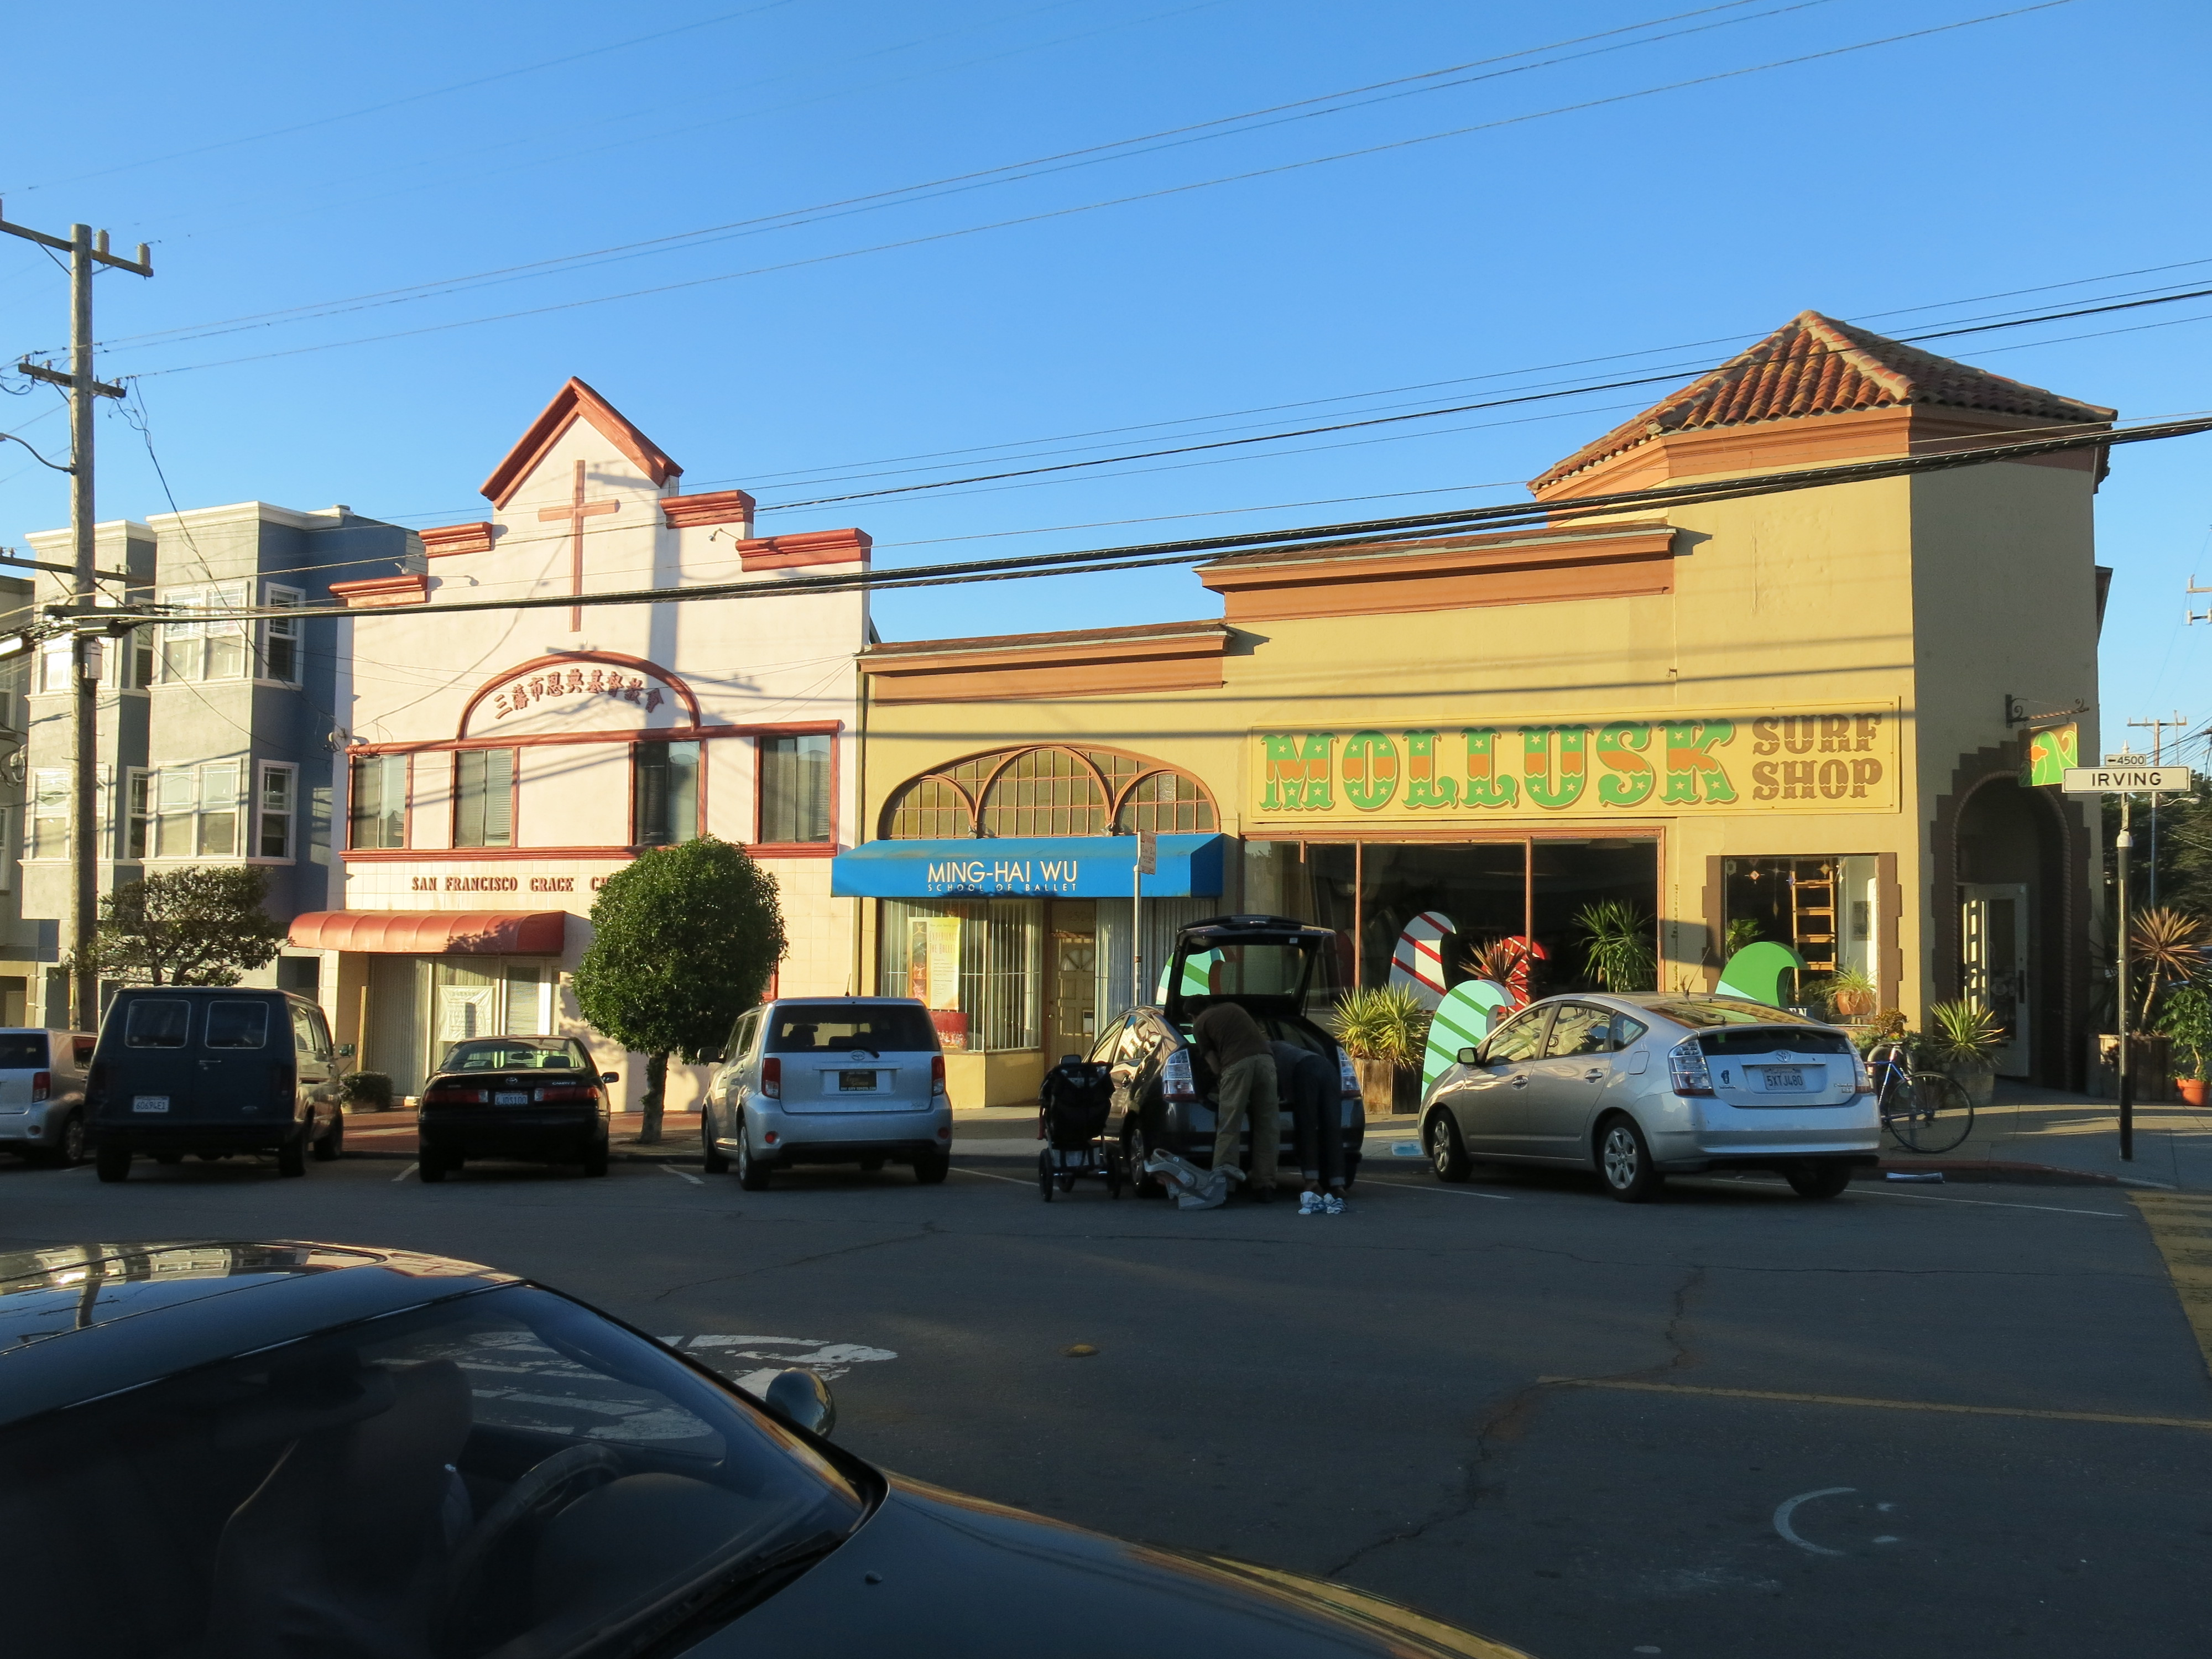mobil: (1409, 962, 1892, 1237), (695, 1006, 996, 1195), (395, 1025, 622, 1185)
